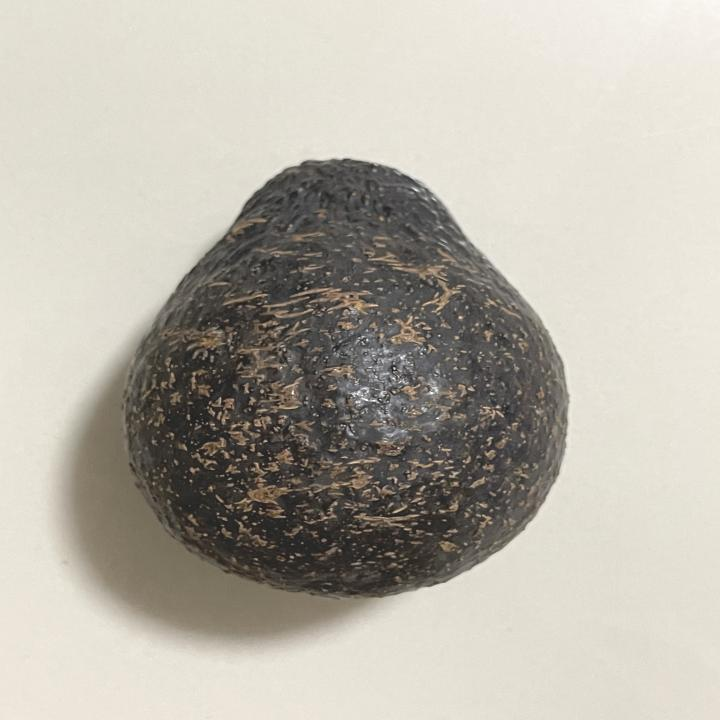Level3: (112, 147, 580, 606)
